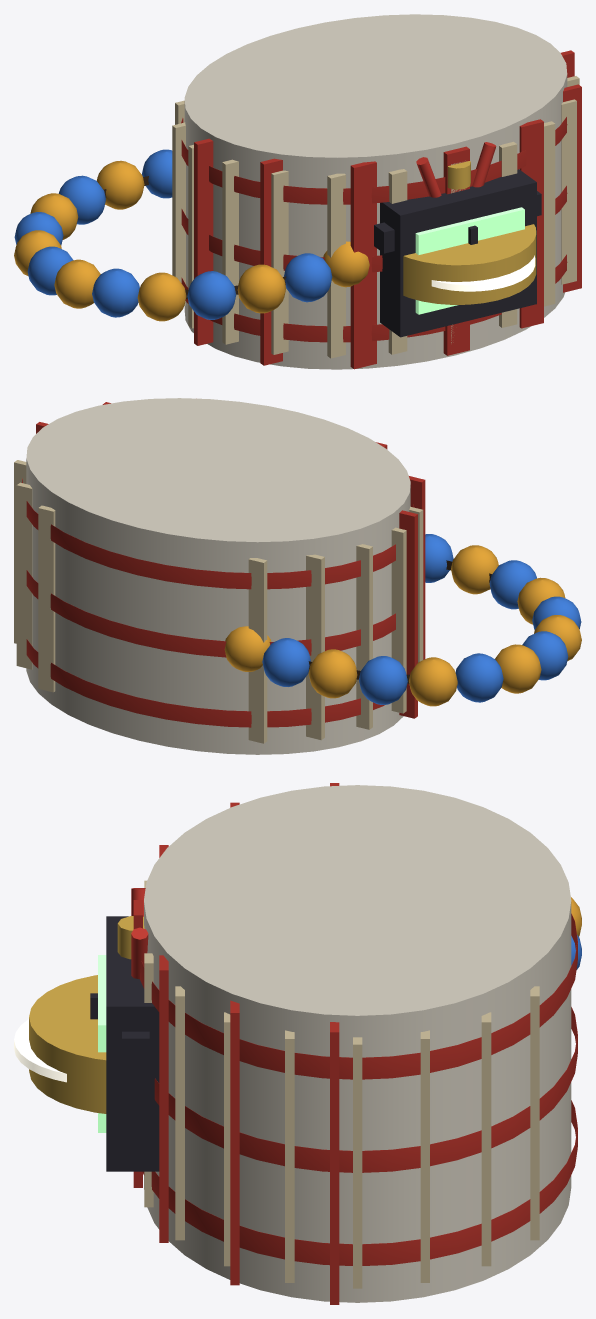
The model's file is accessories.glb.
The picture shows the model from 3 angles, top to bottom: view 1: azimuth 30°, elevation 25°; view 2: azimuth 150°, elevation 25°; view 3: azimuth 270°, elevation 25°; orthographic projection. The views are drawn at different scales.
Visible parts, largest first — view 1: glove_cocina, bracelet_abalorios, glove_lana, watch_feria, watch_abuela, bracelet_hilo; view 2: glove_cocina, bracelet_abalorios, glove_lana; view 3: glove_cocina, glove_lana, watch_feria, watch_abuela, bracelet_hilo.
Boxes of the visible parts, x1,y1,x2,y2 form: glove_cocina: (181, 14, 581, 369); bracelet_abalorios: (14, 149, 369, 321); glove_lana: (172, 76, 579, 358); watch_feria: (374, 169, 541, 337); watch_abuela: (403, 161, 536, 304); bracelet_hilo: (416, 142, 496, 197); glove_cocina: (22, 398, 425, 754); bracelet_abalorios: (224, 534, 581, 706); glove_lana: (14, 460, 423, 743); glove_cocina: (133, 783, 577, 1304); glove_lana: (144, 880, 539, 1288); watch_feria: (98, 916, 159, 1171); watch_abuela: (14, 916, 144, 1113); bracelet_hilo: (131, 888, 148, 979).
Bounding box in the file's own units: 0.1055 × 0.04 × 0.0717.
